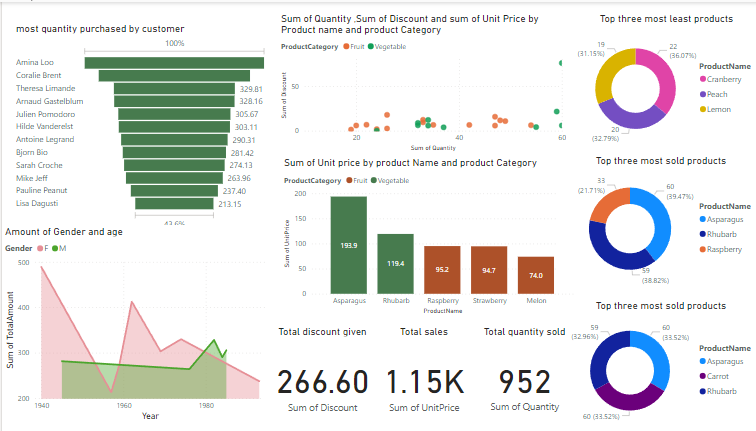

Layout of this report page (visuals, bound fields, positions):
{"tool":"powerbi","page":{"name":"Page 1","canvas":[1280,720],"ordinal":0},"visuals":[{"type":"columnChart","title":"Sum of Unit price by product Name and product Category","fields":{"Category":["Product.ProductName"],"Y":["Sales.UnitPrice"],"Series":["Product.ProductCategory"]},"box":[468.7,258.7,497.2,270.4],"z":0},{"type":"funnel","title":"most quantity purchased by customer","fields":{"Y":["Sales.TotalAmount"],"Category":["Customer.CustomerFullName"]},"box":[18.5,33.6,431.7,352.8],"z":1000},{"type":"areaChart","title":"Amount of Gender and age","fields":{"Category":["Customer.Birthdate.Variation.Date Hierarchy.Year"],"Y":["Sales.TotalAmount"],"Series":["Customer.Gender"]},"box":[0,374.6,450.2,334.3],"z":2000},{"type":"scatterChart","title":"Sum of Quantity ,Sum of Discount and sum of Unit Price by Product name and product Category","fields":{"X":["Sales.Quantity"],"Y":["Sales.Discount"],"Series":["Product.ProductCategory"],"Category":["Sales.UnitPrice","Sales.Discount"]},"box":[463.6,16.8,488.8,238.5],"z":3000},{"type":"donutChart","title":"Top three most least products","fields":{"Category":["Product.ProductName"],"Y":["Sales.Quantity"]},"box":[952.4,16.8,327.6,238.5],"z":4000},{"type":"donutChart","title":"Top three most sold products","fields":{"Category":["Product.ProductName"],"Y":["Sales.Quantity"]},"box":[934,255.3,346,231.8],"z":5000},{"type":"card","title":"Total discount given","fields":{"Values":["Sales.Discount"]},"box":[436.7,542.6,203.3,178.1],"z":6000},{"type":"donutChart","title":"Top three most sold  products","fields":{"Category":["Product.ProductName"],"Y":["Sales.Quantity"]},"box":[934,498.9,346,221.7],"z":7000},{"type":"card","title":"Total sales","fields":{"Values":["Sales.UnitPrice"]},"box":[614.8,542.6,188.1,178.1],"z":8000},{"type":"card","title":"Total quantity sold","fields":{"Values":["Sales.Quantity"]},"box":[802.9,542.6,149.5,178.1],"z":9000}]}

Visuals, with their boxes in screenshot pixels (x1, y1, x2, y2), scaled from the page's 1280x720 canvas onto the 756x431 screenshot:
"Sum of Unit price by product Name and product Category" columnChart: BBox(277, 155, 570, 317)
"most quantity purchased by customer" funnel: BBox(11, 20, 266, 231)
"Amount of Gender and age" areaChart: BBox(0, 224, 266, 424)
"Sum of Quantity ,Sum of Discount and sum of Unit Price by Product name and product Category" scatterChart: BBox(274, 10, 563, 153)
"Top three most least products" donutChart: BBox(563, 10, 755, 153)
"Top three most sold products" donutChart: BBox(552, 153, 755, 292)
"Total discount given" card: BBox(258, 325, 378, 430)
"Top three most sold  products" donutChart: BBox(552, 299, 755, 430)
"Total sales" card: BBox(363, 325, 474, 430)
"Total quantity sold" card: BBox(474, 325, 563, 430)
